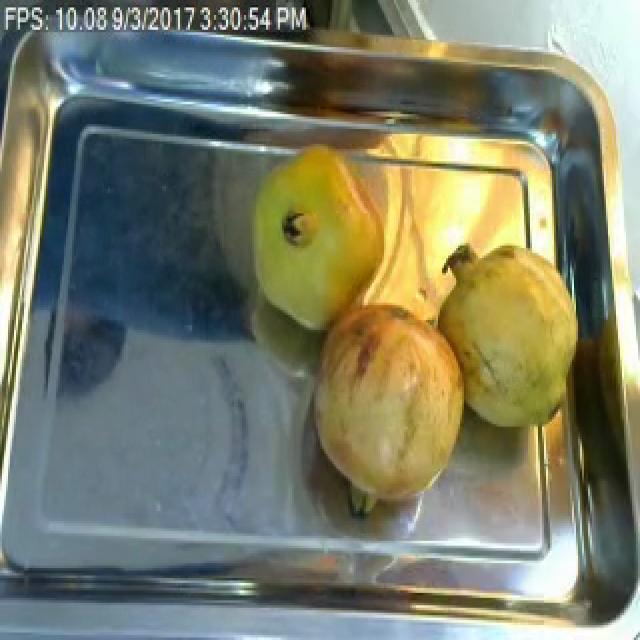fruit: (302, 291, 476, 528), (420, 223, 590, 449), (232, 136, 398, 340)
